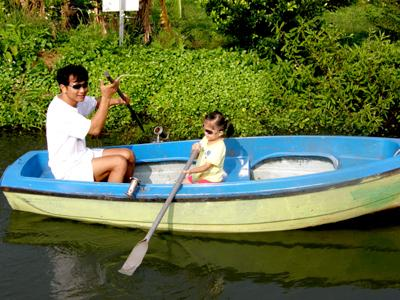person: (47, 65, 137, 185)
